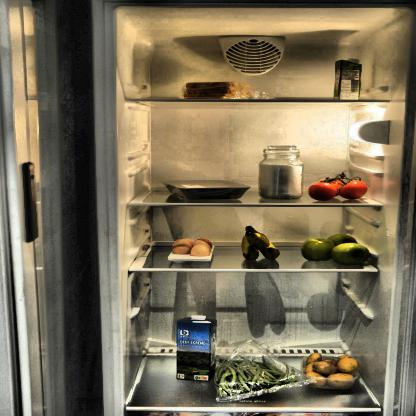apple: (299, 232, 374, 266)
banana: (239, 224, 282, 262)
eggs: (172, 237, 218, 258)
green_beans: (216, 356, 302, 399)
heavy_cream: (331, 58, 367, 102)
milk: (177, 316, 218, 384)
potato: (302, 350, 362, 390)
tomato: (304, 176, 366, 201)
